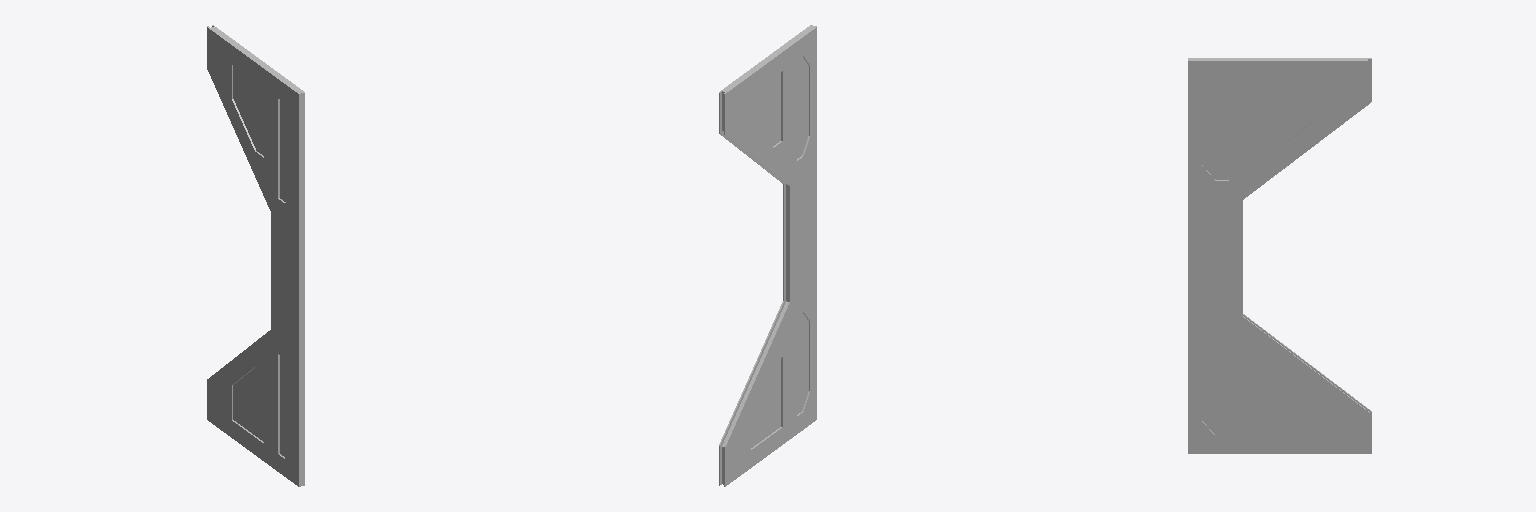
File: Door Right.obj
3 renders of one model, left to right at view 1: azimuth 30°, elevation 25°; view 2: azimuth 150°, elevation 25°; view 3: azimuth 270°, elevation 25°, orthographic.
Visible parts, largest first — view 1: SketchUp.002_ID17, SketchUp.006_ID41, SketchUp.005_ID35, SketchUp.004_ID29, SketchUp.003_ID23; view 2: SketchUp.002_ID17, SketchUp.006_ID41, SketchUp.005_ID35, SketchUp.004_ID29, SketchUp.003_ID23; view 3: SketchUp.002_ID17, SketchUp.005_ID35, SketchUp.006_ID41, SketchUp.004_ID29, SketchUp.003_ID23.
Boxes of the visible parts, box(x1,y1,x2,y2) form: SketchUp.002_ID17: box(207, 25, 304, 486); SketchUp.006_ID41: box(232, 367, 263, 442); SketchUp.005_ID35: box(232, 65, 263, 157); SketchUp.004_ID29: box(278, 99, 291, 202); SketchUp.003_ID23: box(278, 354, 291, 458); SketchUp.002_ID17: box(719, 25, 816, 486); SketchUp.006_ID41: box(751, 357, 782, 449); SketchUp.005_ID35: box(751, 71, 782, 147); SketchUp.004_ID29: box(797, 56, 809, 160); SketchUp.003_ID23: box(797, 312, 809, 415); SketchUp.002_ID17: box(1188, 58, 1371, 453); SketchUp.005_ID35: box(1257, 80, 1321, 149); SketchUp.006_ID41: box(1257, 366, 1321, 435); SketchUp.004_ID29: box(1202, 80, 1228, 180); SketchUp.003_ID23: box(1202, 336, 1228, 435).
Bounding box in the file's own units: 0.0498 × 2.76 × 1.17.